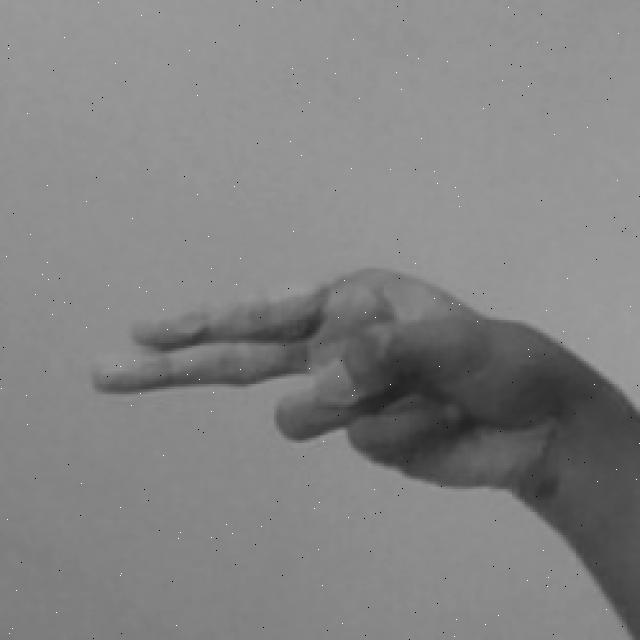H: (87, 261, 640, 640), (84, 263, 639, 640)
